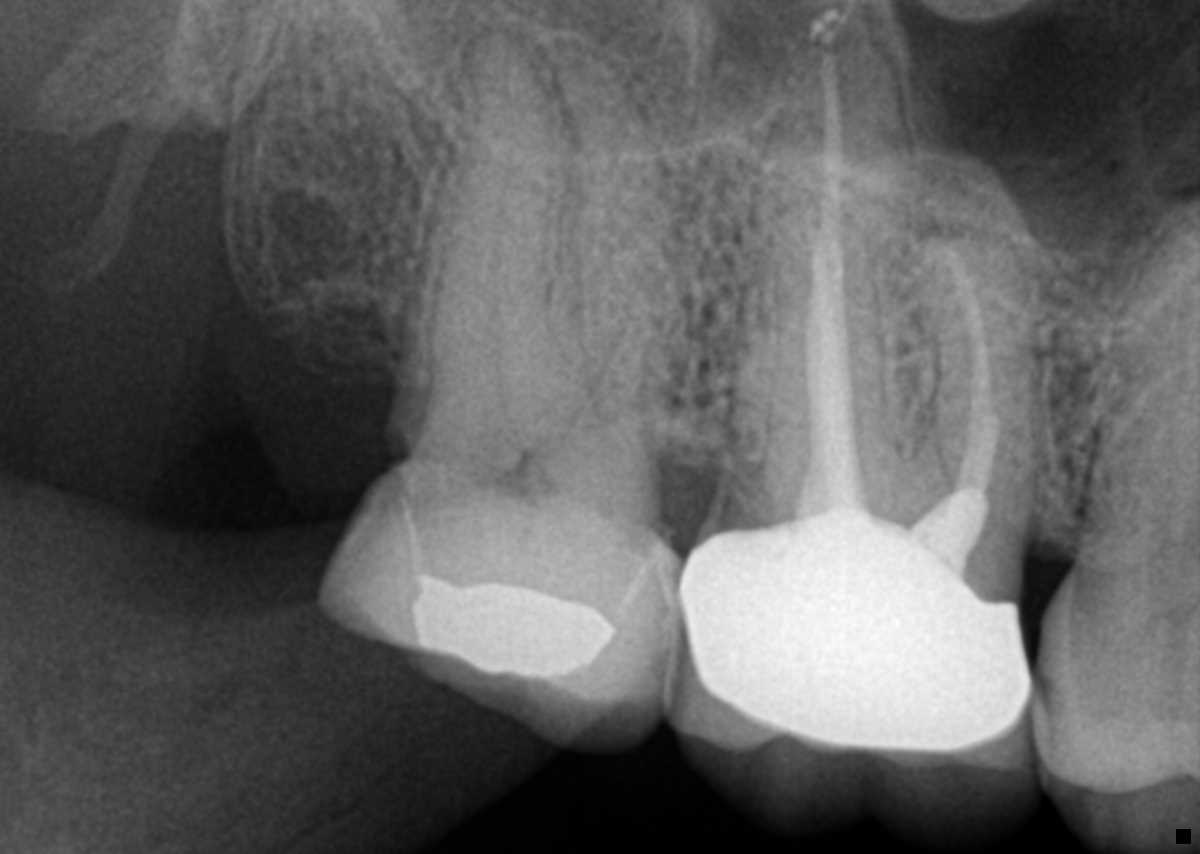Distal Canal: (496, 72, 520, 450)
Distal Root: (416, 29, 564, 414), (754, 194, 894, 480)
Main Root: (1073, 213, 1200, 574)
Mesial Canal: (559, 234, 636, 447)
Mesial Root: (549, 42, 693, 427), (900, 228, 1039, 535)
Palatal Root: (387, 0, 660, 483), (719, 36, 960, 530)
Root Canal Filling: (801, 53, 866, 515), (806, 223, 868, 505), (937, 242, 1001, 491)
